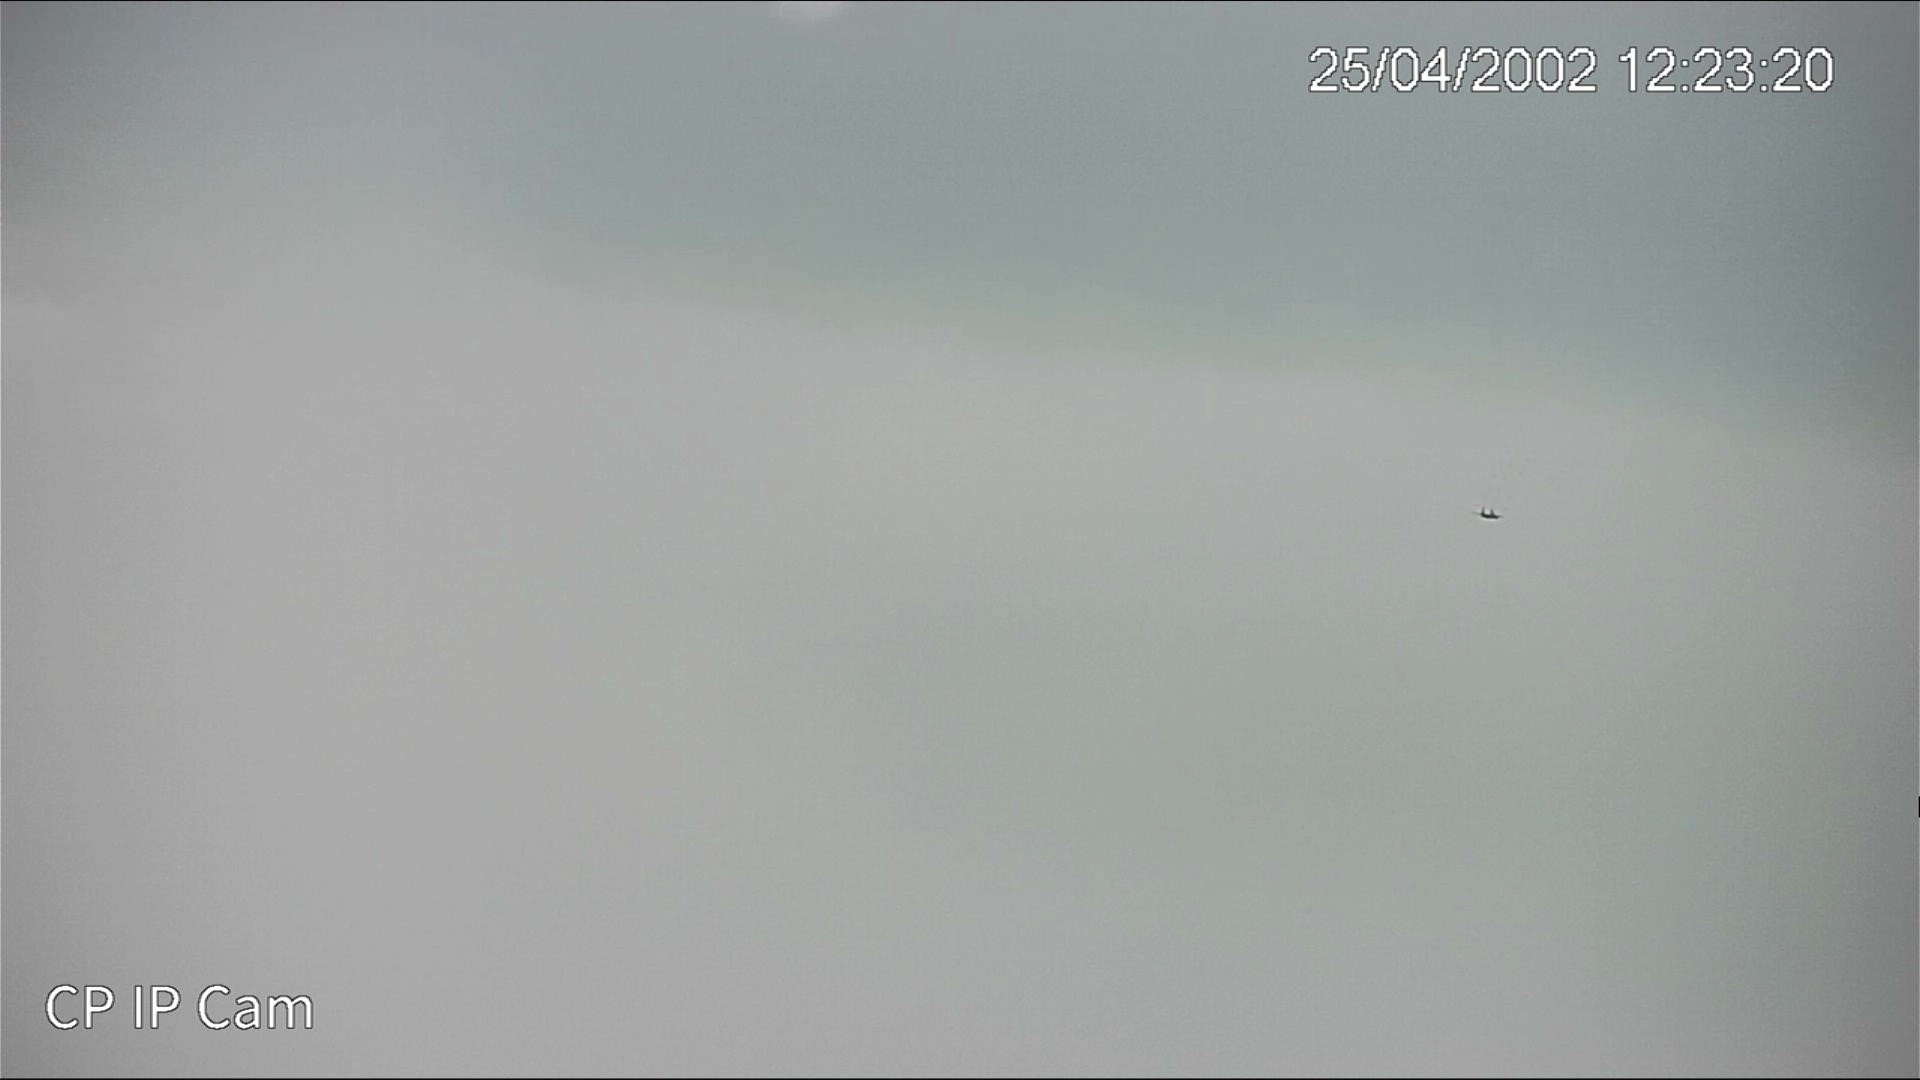SU_30: (1469, 505, 1505, 521)
